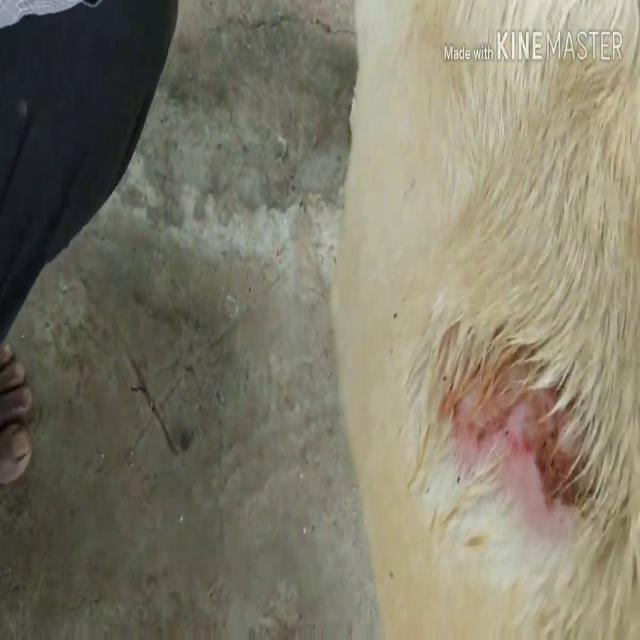hac lao: (394, 289, 611, 549)
